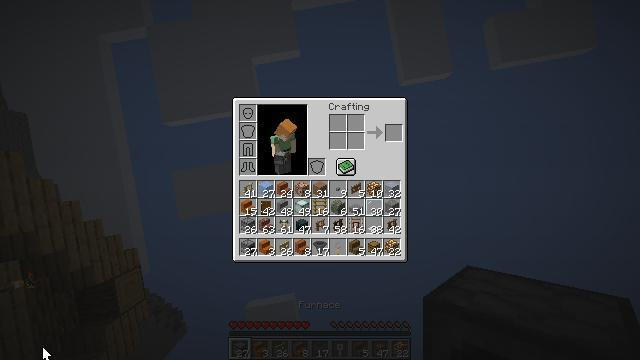cursor: (346, 42, 362, 52)
